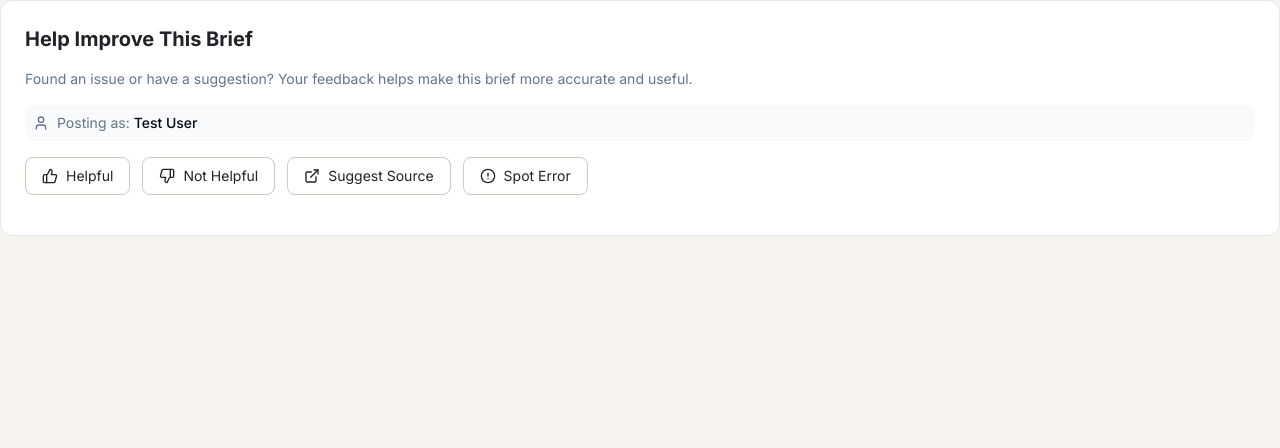
Test: FeedbackForm › Suggest Source Form › should open content form when Suggest Source is clicked
Click the button "Suggest Source" at (369, 176), box [287, 157, 451, 195]
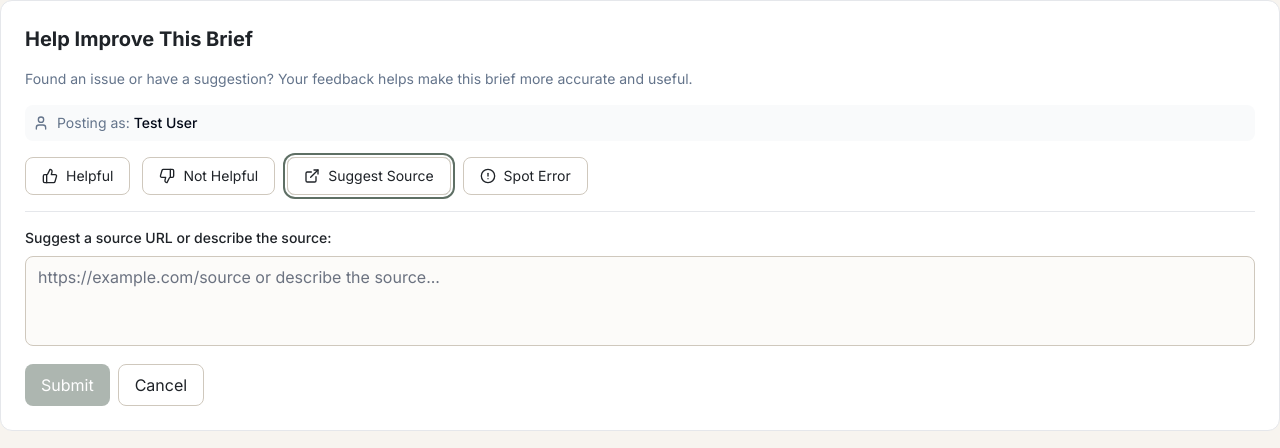
expect the text "Suggest a source URL or describe the source:" is shown: met, box [25, 229, 332, 246]
expect the text box with placeholder "https://example.com/source or describe the source..." is shown: met, box [25, 256, 1255, 346]
